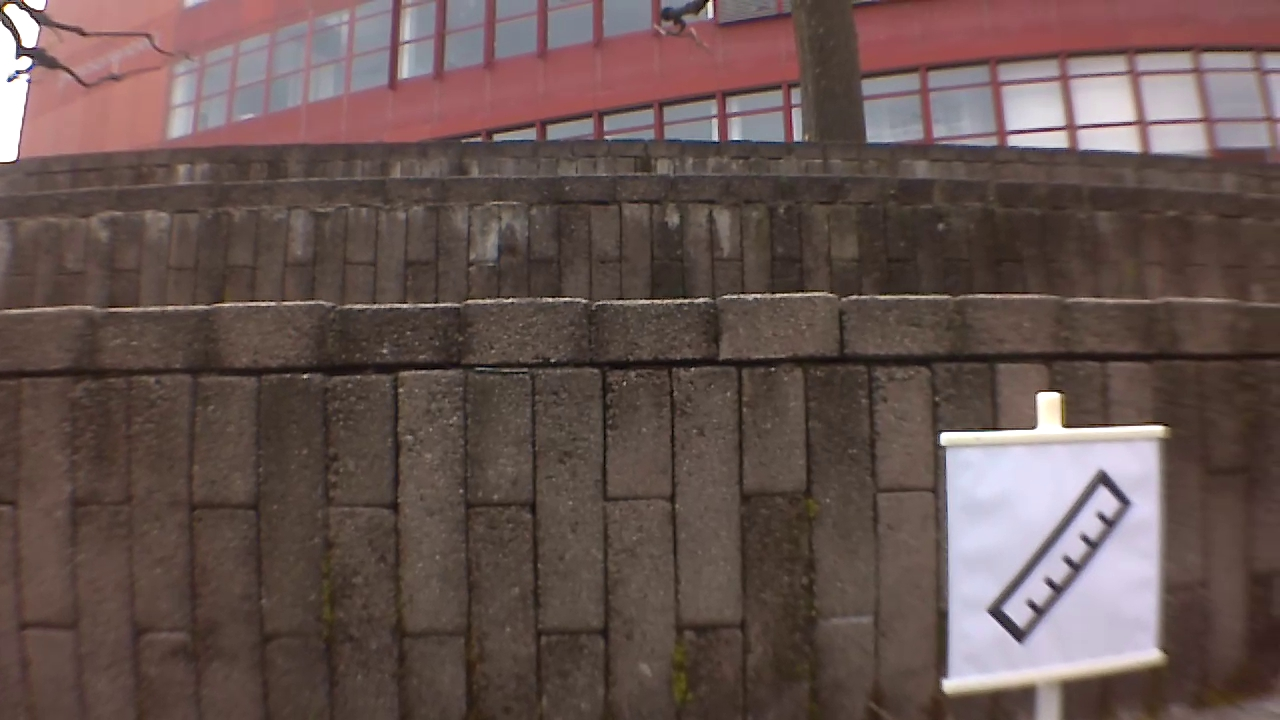ruler: (984, 464, 1137, 643)
